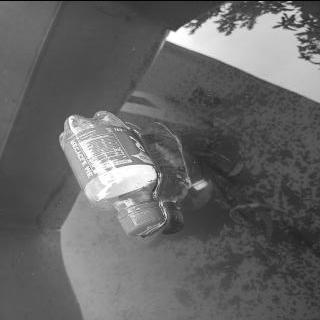bottle: (55, 106, 170, 238)
